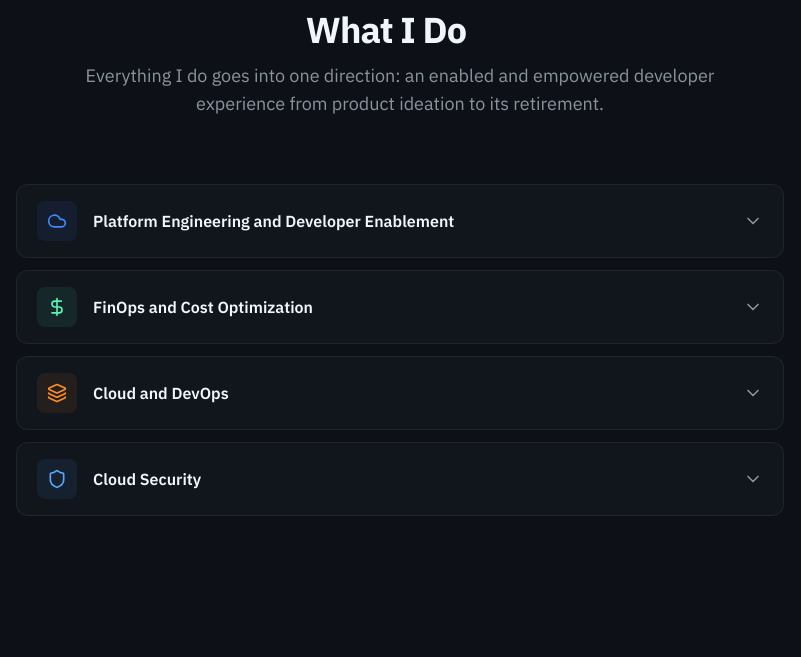
Test: ServicesSection › renders service descriptions when expanded
Click the button "Cloud and DevOps".
click(57, 393)  # box top-left (17, 357), bottom-right (783, 429)
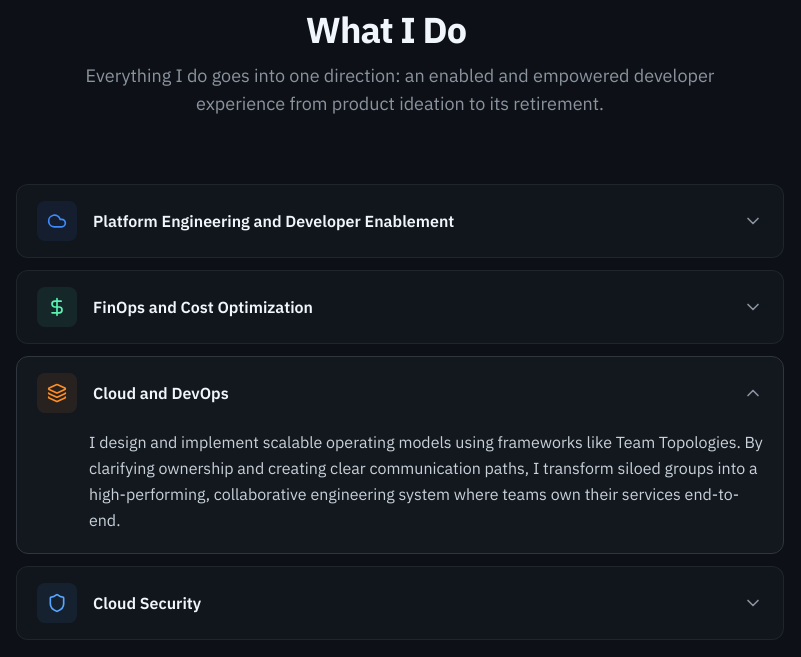
Now the text "scalable operating models" is shown, box top-left (89, 432), bottom-right (763, 530)
